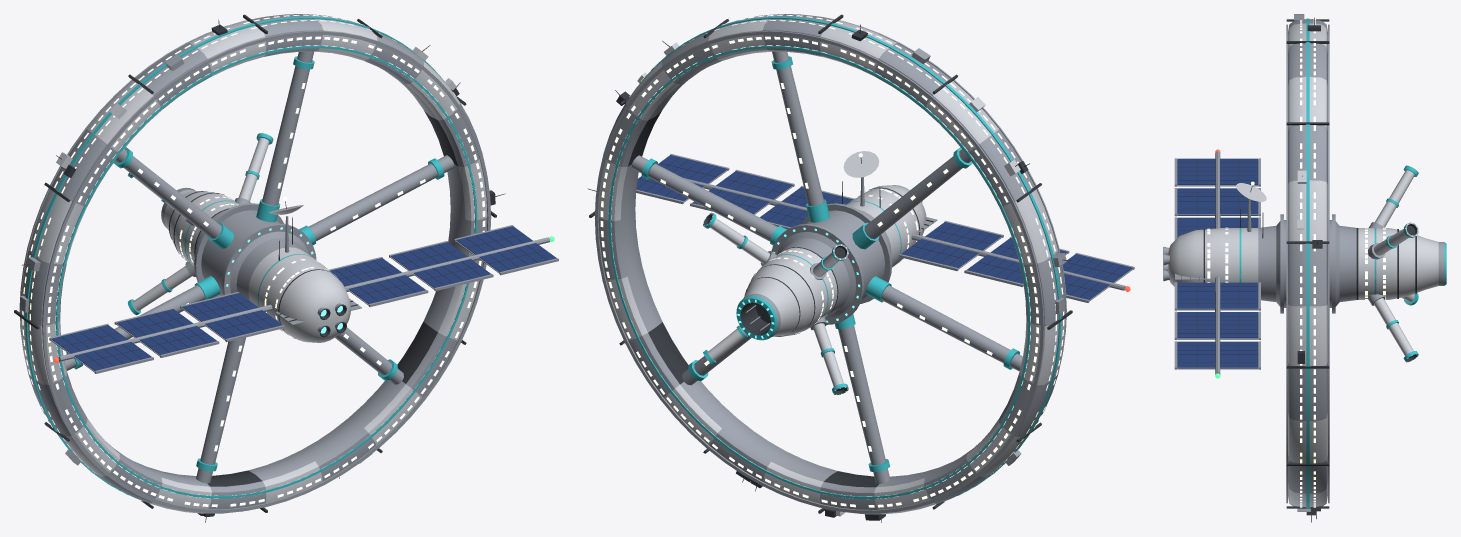
The model's file is station_orbital.glb.
3 views of the same model, side by side, from view 1: azimuth 30°, elevation 25°; view 2: azimuth 150°, elevation 25°; view 3: azimuth 270°, elevation 25° (orthographic). The views are drawn at different scales.
Parts seen in each view (by area): view 1: Ring, SolarPanels, Hub; view 2: Ring, Hub, SolarPanels; view 3: Ring, Hub, SolarPanels.
Boxes of the visible parts, left/top/right/bottom form: Ring: left=14, top=14, right=505, bottom=522; SolarPanels: left=49, top=225, right=558, bottom=373; Hub: left=127, top=133, right=361, bottom=342; Ring: left=587, top=14, right=1072, bottom=522; Hub: left=703, top=151, right=937, bottom=395; SolarPanels: left=636, top=154, right=1134, bottom=302; Ring: left=1286, top=14, right=1329, bottom=522; Hub: left=1163, top=165, right=1446, bottom=362; SolarPanels: left=1174, top=151, right=1260, bottom=374.
Size of the model in its own units: 237 by 225 by 126.
